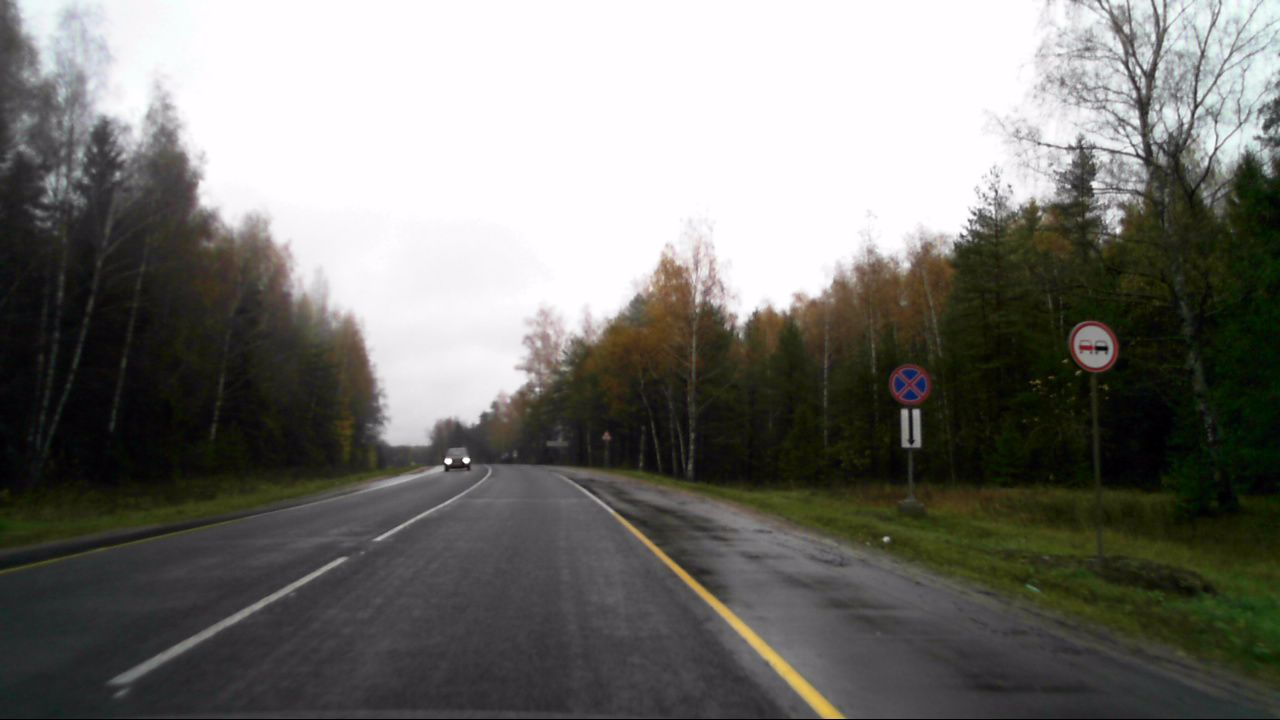No Parking: (887, 362, 930, 407)
